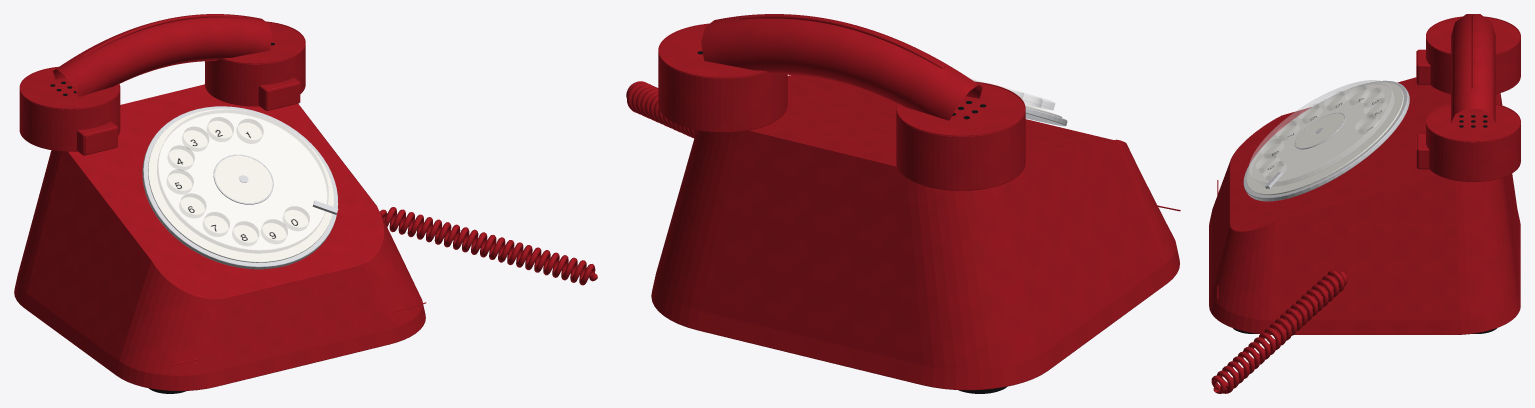
The model's file is rotary-phone.glb.
3 renders of one model, left to right at view 1: azimuth 30°, elevation 25°; view 2: azimuth 150°, elevation 25°; view 3: azimuth 270°, elevation 25°, orthographic. The views are drawn at different scales.
Parts seen in each view (by area): view 1: Prop_RotaryTelephone.Body, Prop_RotaryTelephone.NumberPlate, Prop_RotaryTelephone.FingerWheel, Prop_RotaryTelephone.HandsetHandle, Prop_RotaryTelephone.HandsetCup_0, Prop_RotaryTelephone.HandsetCup_1, Prop_RotaryTelephone.CoiledCord, Prop_RotaryTelephone.DialBezel, Prop_RotaryTelephone.CentreCard, Prop_RotaryTelephone.ProngBrass_1, Prop_RotaryTelephone.ProngBrass_0, Prop_RotaryTelephone.HandsetBrassStripe (+1 smaller); view 2: Prop_RotaryTelephone.Body, Prop_RotaryTelephone.HandsetHandle, Prop_RotaryTelephone.HandsetCup_0, Prop_RotaryTelephone.HandsetCup_1, Prop_RotaryTelephone.CoiledCord, Prop_RotaryTelephone.HandsetBrassStripe, Prop_RotaryTelephone.FingerWheel; view 3: Prop_RotaryTelephone.Body, Prop_RotaryTelephone.NumberPlate, Prop_RotaryTelephone.FingerWheel, Prop_RotaryTelephone.HandsetCup_1, Prop_RotaryTelephone.HandsetHandle, Prop_RotaryTelephone.CoiledCord, Prop_RotaryTelephone.HandsetCup_0, Prop_RotaryTelephone.DialBezel, Prop_RotaryTelephone.CentreCard, Prop_RotaryTelephone.CradleProng_0, Prop_RotaryTelephone.CradleProng_1, Prop_RotaryTelephone.HandsetBrassStripe.
Boxes of the visible parts, <box> form: Prop_RotaryTelephone.Body: <box>14,84,425,391</box>; Prop_RotaryTelephone.NumberPlate: <box>148,109,333,262</box>; Prop_RotaryTelephone.FingerWheel: <box>157,110,328,253</box>; Prop_RotaryTelephone.HandsetHandle: <box>53,14,272,96</box>; Prop_RotaryTelephone.HandsetCup_0: <box>19,67,120,151</box>; Prop_RotaryTelephone.HandsetCup_1: <box>205,22,305,106</box>; Prop_RotaryTelephone.CoiledCord: <box>380,207,597,285</box>; Prop_RotaryTelephone.DialBezel: <box>142,106,338,269</box>; Prop_RotaryTelephone.CentreCard: <box>215,155,272,203</box>; Prop_RotaryTelephone.ProngBrass_1: <box>267,84,300,110</box>; Prop_RotaryTelephone.ProngBrass_0: <box>85,128,117,154</box>; Prop_RotaryTelephone.HandsetBrassStripe: <box>82,14,242,56</box>; Prop_RotaryTelephone.Body: <box>651,75,1179,390</box>; Prop_RotaryTelephone.HandsetHandle: <box>701,14,982,120</box>; Prop_RotaryTelephone.HandsetCup_0: <box>896,83,1025,190</box>; Prop_RotaryTelephone.HandsetCup_1: <box>658,24,787,132</box>; Prop_RotaryTelephone.CoiledCord: <box>626,81,696,138</box>; Prop_RotaryTelephone.HandsetBrassStripe: <box>739,14,944,68</box>; Prop_RotaryTelephone.FingerWheel: <box>969,77,1054,110</box>; Prop_RotaryTelephone.Body: <box>1209,77,1520,334</box>; Prop_RotaryTelephone.NumberPlate: <box>1246,82,1403,195</box>; Prop_RotaryTelephone.FingerWheel: <box>1249,80,1394,186</box>; Prop_RotaryTelephone.HandsetCup_1: <box>1426,104,1520,181</box>; Prop_RotaryTelephone.HandsetHandle: <box>1451,14,1495,122</box>; Prop_RotaryTelephone.CoiledCord: <box>1211,270,1347,393</box>; Prop_RotaryTelephone.HandsetCup_0: <box>1426,17,1520,93</box>; Prop_RotaryTelephone.DialBezel: <box>1243,80,1409,201</box>; Prop_RotaryTelephone.CentreCard: <box>1295,113,1344,147</box>; Prop_RotaryTelephone.CradleProng_0: <box>1417,49,1430,84</box>; Prop_RotaryTelephone.CradleProng_1: <box>1417,133,1429,169</box>; Prop_RotaryTelephone.HandsetBrassStripe: <box>1471,14,1474,88</box>.
Bounding box in the file's own units: 0.3299 × 0.176 × 0.2099.
Materials: 7 (3 with a texture image).
